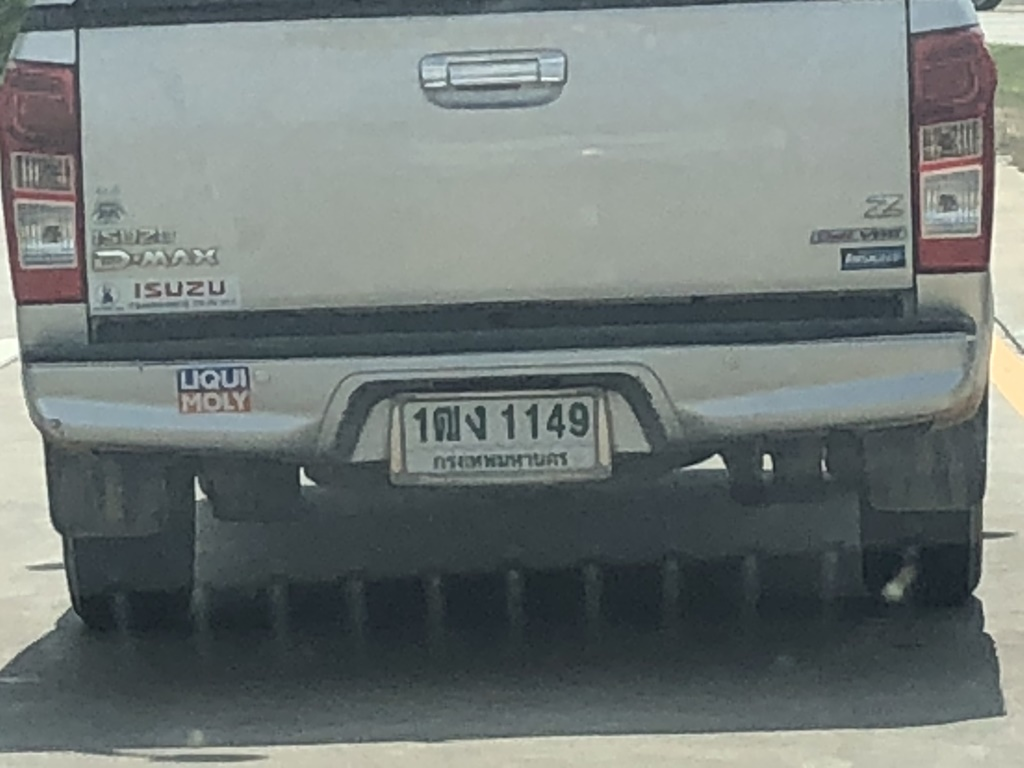four: (538, 396, 567, 444)
nine: (564, 392, 597, 447)
one: (519, 395, 547, 452), (401, 405, 433, 452), (496, 399, 524, 449)
